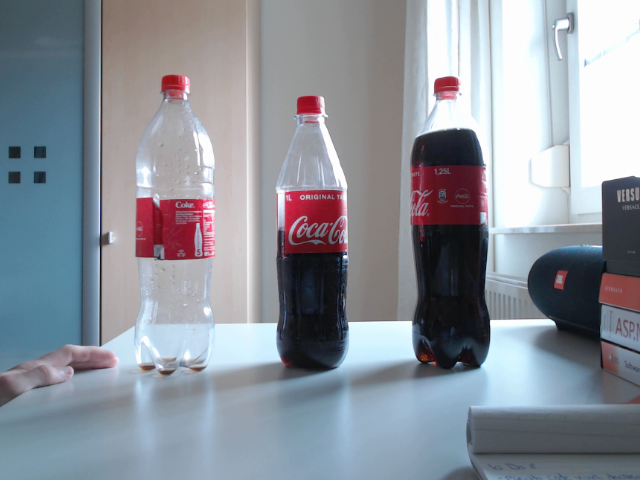bottle: (134, 73, 216, 374), (410, 75, 491, 371), (276, 96, 349, 371)
